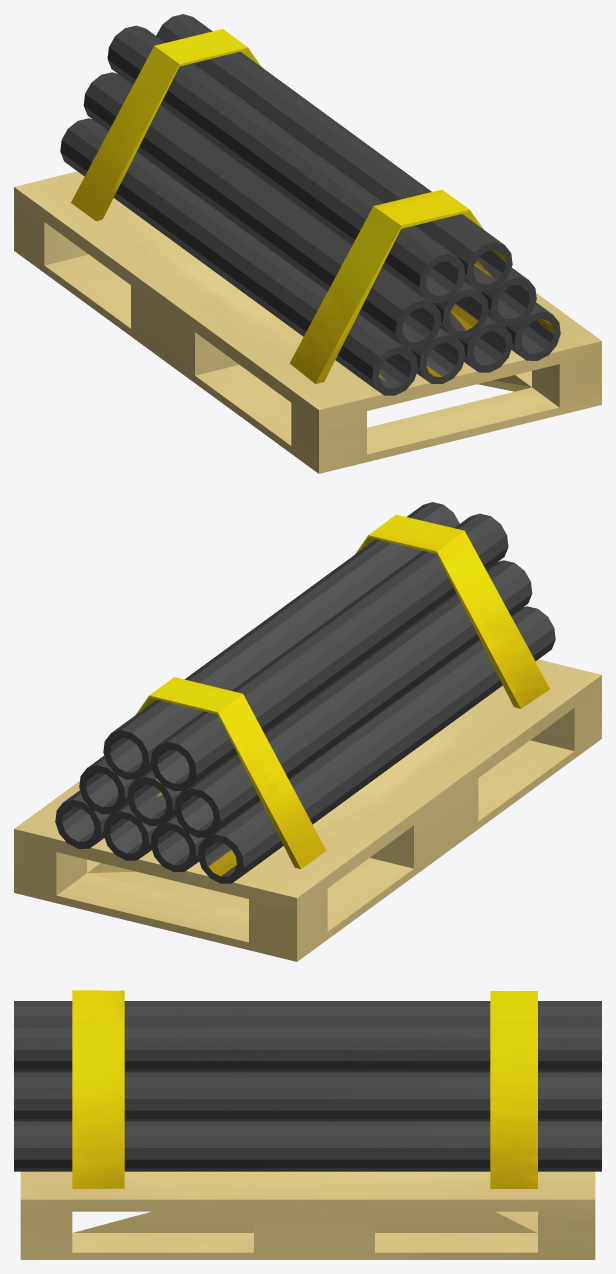
File: PIPE PALLET.fbx
3 renders of one model, top to bottom at view 1: azimuth 30°, elevation 25°; view 2: azimuth 150°, elevation 25°; view 3: azimuth 270°, elevation 25°, orthographic. The views are drawn at different scales.
Visible parts, largest first — view 1: Cylinder.008, Cube, Cube.001; view 2: Cylinder.008, Cube, Cube.001; view 3: Cylinder.008, Cube, Cube.001.
Part boxes in pixels (x1=…): Cylinder.008: x1=60, y1=14, x2=560, y2=395; Cube: x1=14, y1=171, x2=601, y2=473; Cube.001: x1=71, y1=29, x2=483, y2=383; Cylinder.008: x1=55, y1=502, x2=555, y2=883; Cube: x1=14, y1=659, x2=601, y2=961; Cube.001: x1=136, y1=514, x2=550, y2=869; Cylinder.008: x1=14, y1=1001, x2=601, y2=1171; Cube: x1=20, y1=1171, x2=595, y2=1259; Cube.001: x1=72, y1=990, x2=537, y2=1188.
Bounding box in the file's own units: 338 × 230 × 644.
